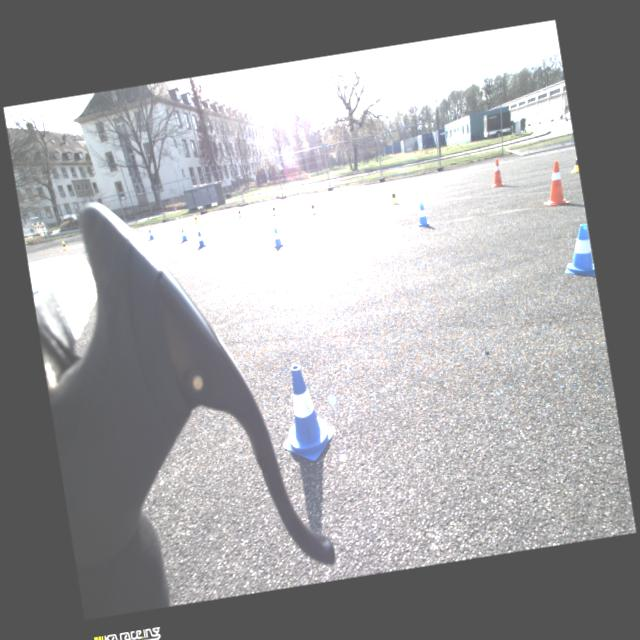blue_cone: (271, 360, 340, 466), (558, 223, 596, 280), (415, 202, 430, 226), (271, 226, 284, 248), (196, 230, 207, 248), (180, 228, 188, 242), (147, 228, 155, 240)
large_orange_cone: (538, 160, 570, 207), (488, 158, 504, 188)
yellow_cone: (389, 190, 400, 206), (569, 158, 579, 174), (310, 202, 318, 214), (271, 206, 278, 217), (237, 208, 243, 220), (62, 240, 69, 250), (194, 214, 198, 224)
